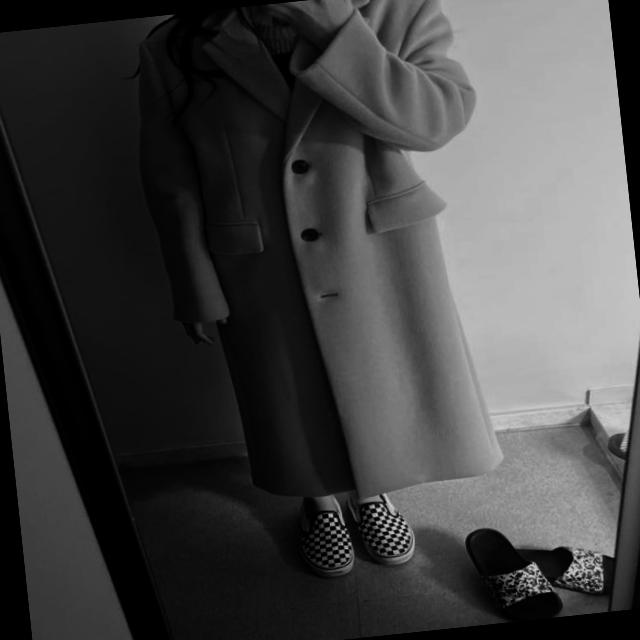coat: (123, 0, 518, 519)
